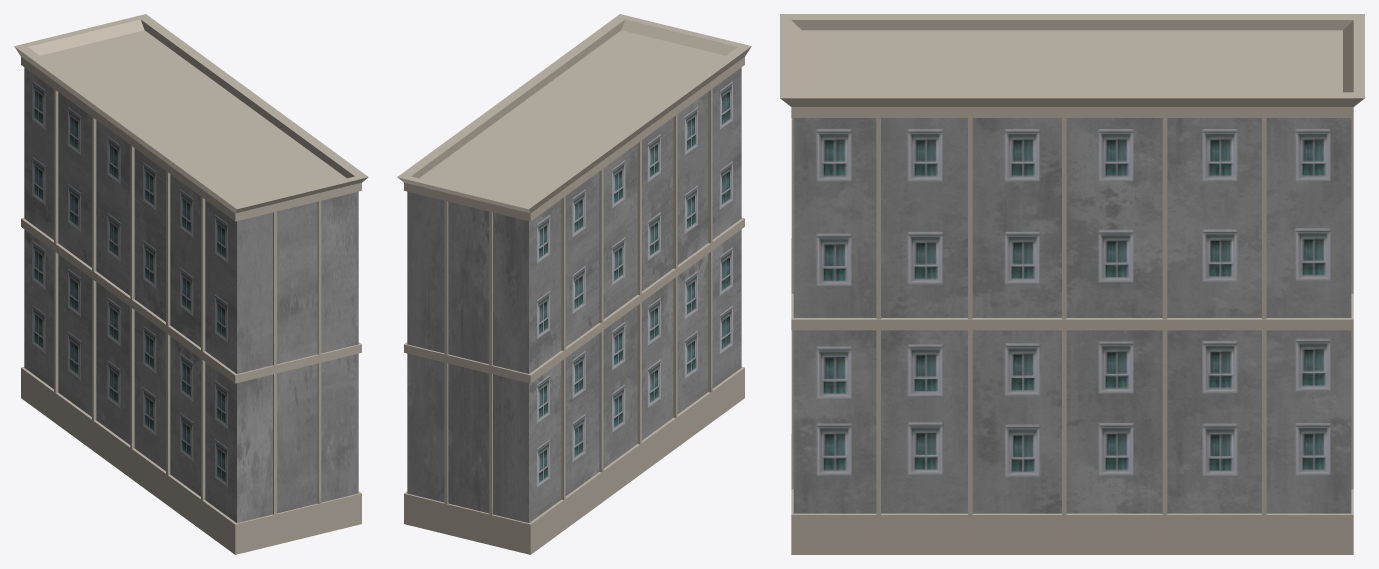
Rendered from Building 3.fbx.
The picture shows the model from 3 angles, left to right: view 1: azimuth 30°, elevation 25°; view 2: azimuth 150°, elevation 25°; view 3: azimuth 270°, elevation 25°; orthographic projection. The views are drawn at different scales.
Parts seen in each view (by area): view 1: pCube100; view 2: pCube100; view 3: pCube100.
Boxes of the visible parts, x1,y1,x2,y2 form: pCube100: [14, 14, 368, 554]; pCube100: [397, 14, 751, 554]; pCube100: [780, 14, 1364, 554].
Size of the model in its own units: 44.03 by 111 by 129.
1 material, 1 textured.
